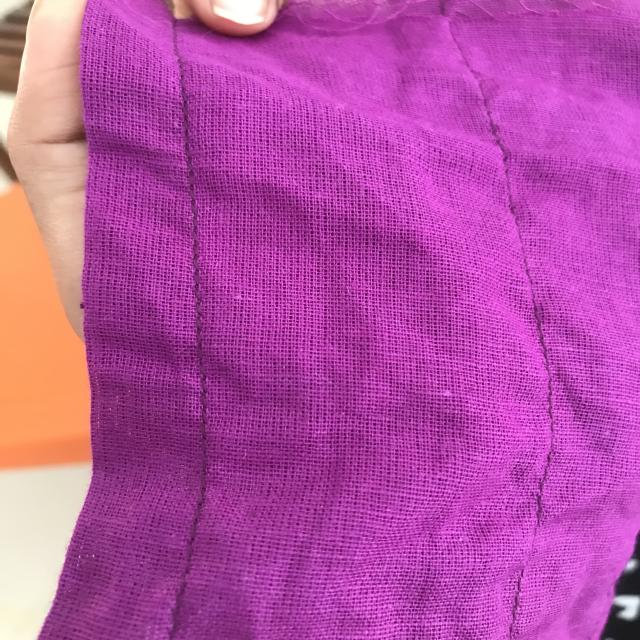good: (164, 88, 220, 191), (180, 237, 223, 350)
